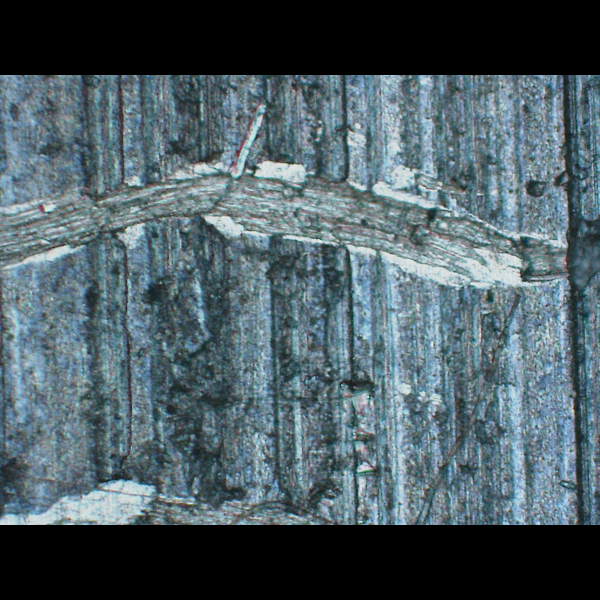d: (197, 174, 600, 292), (0, 441, 349, 524), (2, 169, 227, 277)
